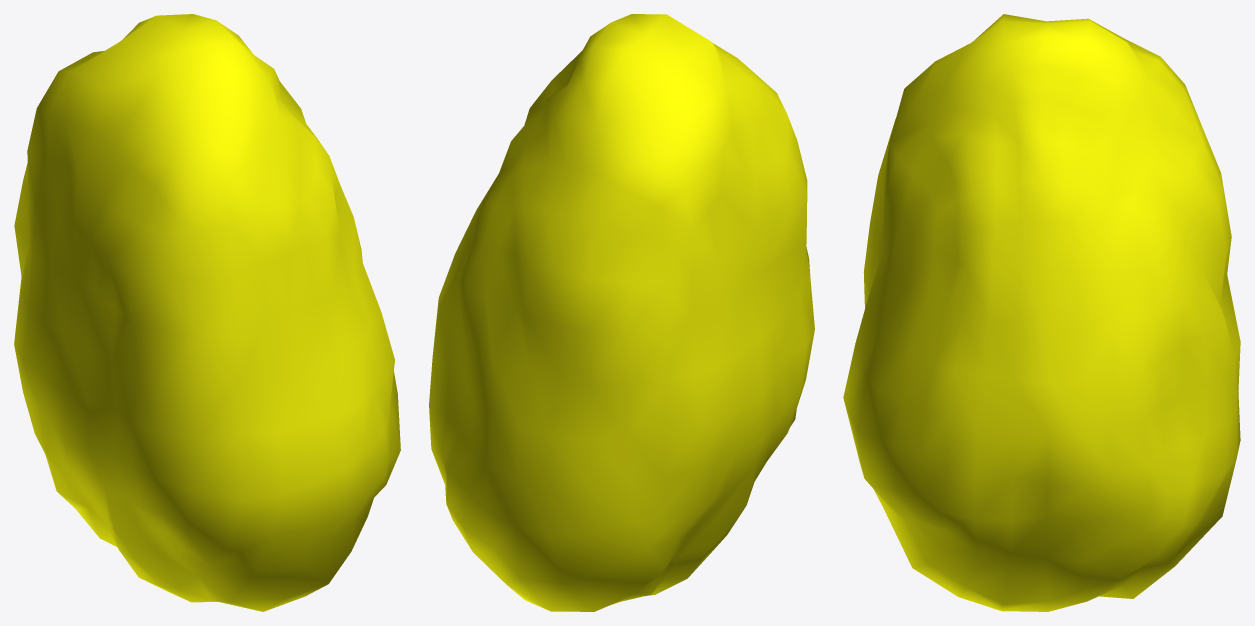
Rendered from Props_Rocks_Rock_4_Rock4_High.glb.
3 views of the same model, side by side, from view 1: azimuth 30°, elevation 25°; view 2: azimuth 150°, elevation 25°; view 3: azimuth 270°, elevation 25° (orthographic). The views are drawn at different scales.
Parts seen in each view (by area): view 1: Rock4_High; view 2: Rock4_High; view 3: Rock4_High.
Boxes of the visible parts, left/top/right/bottom form: Rock4_High: left=14, top=14, right=400, bottom=611; Rock4_High: left=429, top=14, right=814, bottom=611; Rock4_High: left=843, top=14, right=1240, bottom=611.
Bounding box in the file's own units: 1.53 × 2.69 × 1.72.
Materials: 1 (1 with a texture image).
